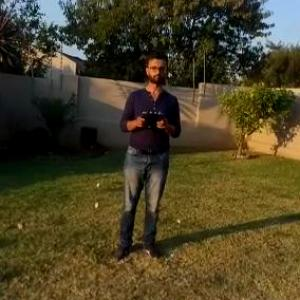follow: (103, 45, 185, 270)
